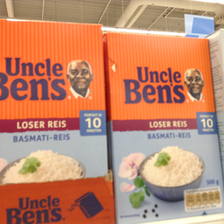rice: (104, 32, 223, 224), (1, 19, 108, 184)
